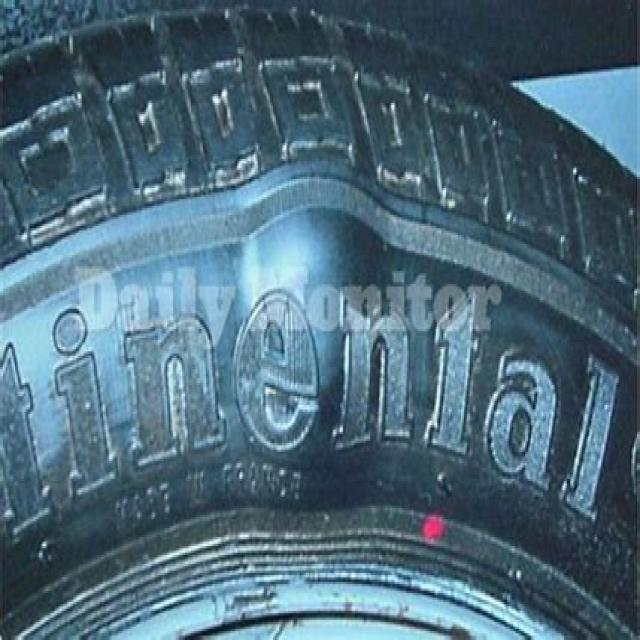Bulge: (227, 112, 399, 494)
